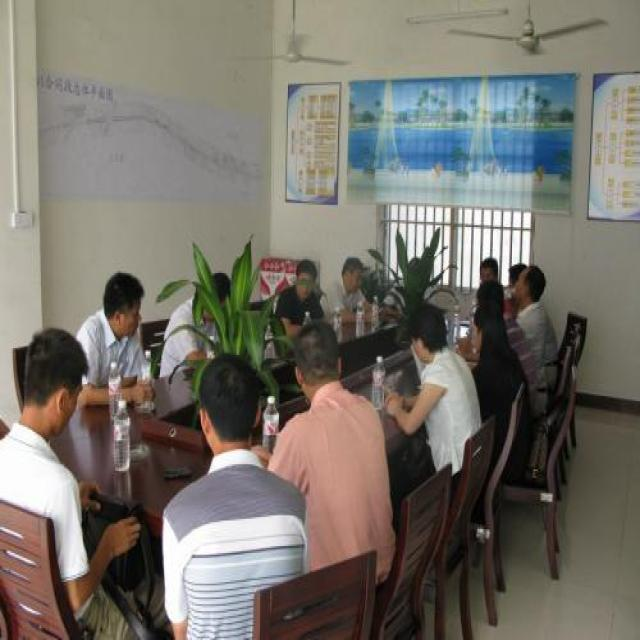no-helmet: (18, 321, 88, 447), (194, 352, 266, 458), (288, 314, 342, 391), (100, 270, 147, 343), (407, 302, 451, 365), (470, 302, 508, 357), (196, 273, 234, 321), (511, 261, 549, 309), (291, 258, 321, 302), (337, 254, 366, 297), (476, 276, 507, 316), (479, 254, 499, 288)
